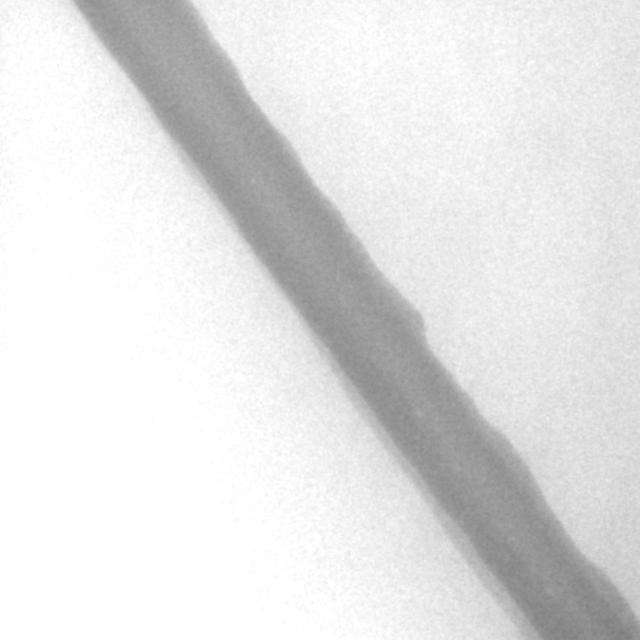air-hole: (543, 585, 553, 596), (416, 404, 422, 422), (458, 466, 463, 477)
